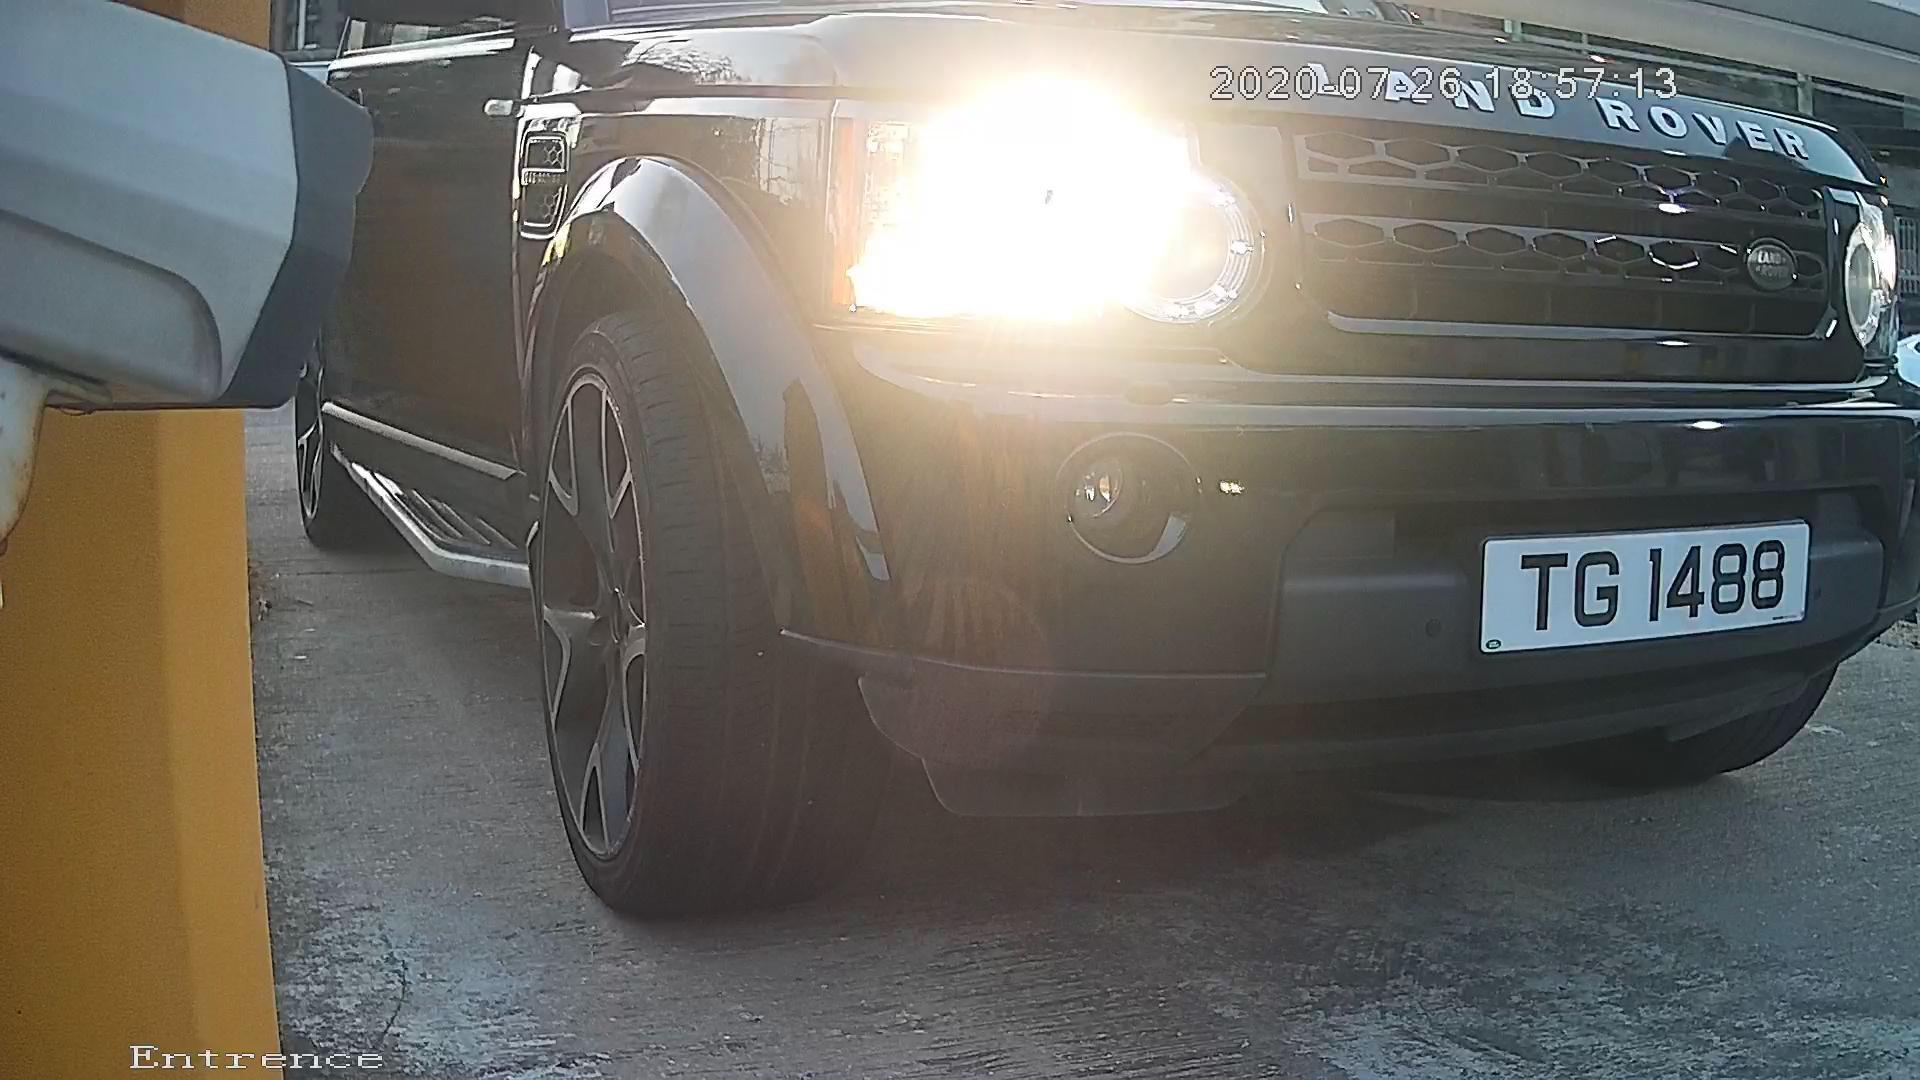License Plate: (1458, 507, 1835, 661)
